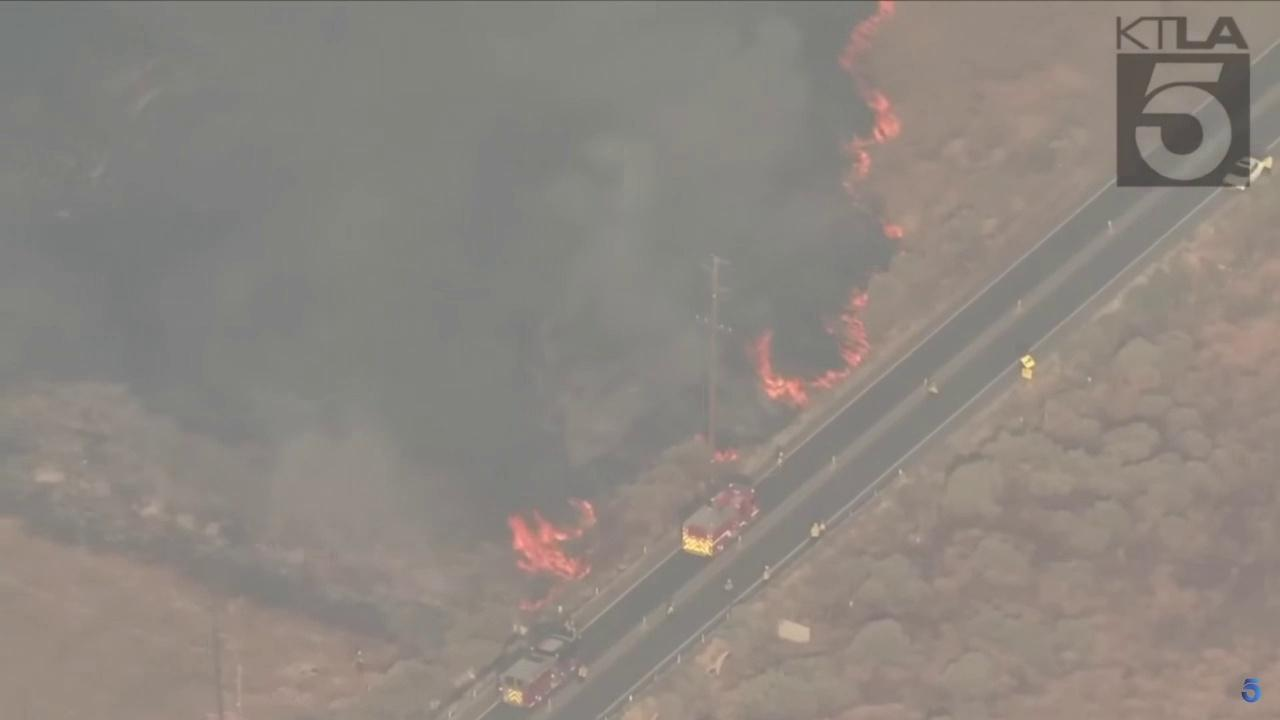fire: (750, 286, 871, 408), (833, 0, 901, 201), (502, 492, 597, 616), (710, 448, 743, 466), (877, 224, 907, 240)
smoke: (0, 0, 891, 608)
